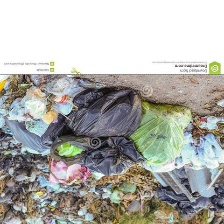plastic_bag: (131, 97, 196, 169), (64, 84, 144, 138), (0, 115, 67, 157), (82, 135, 147, 177), (46, 130, 91, 168)
